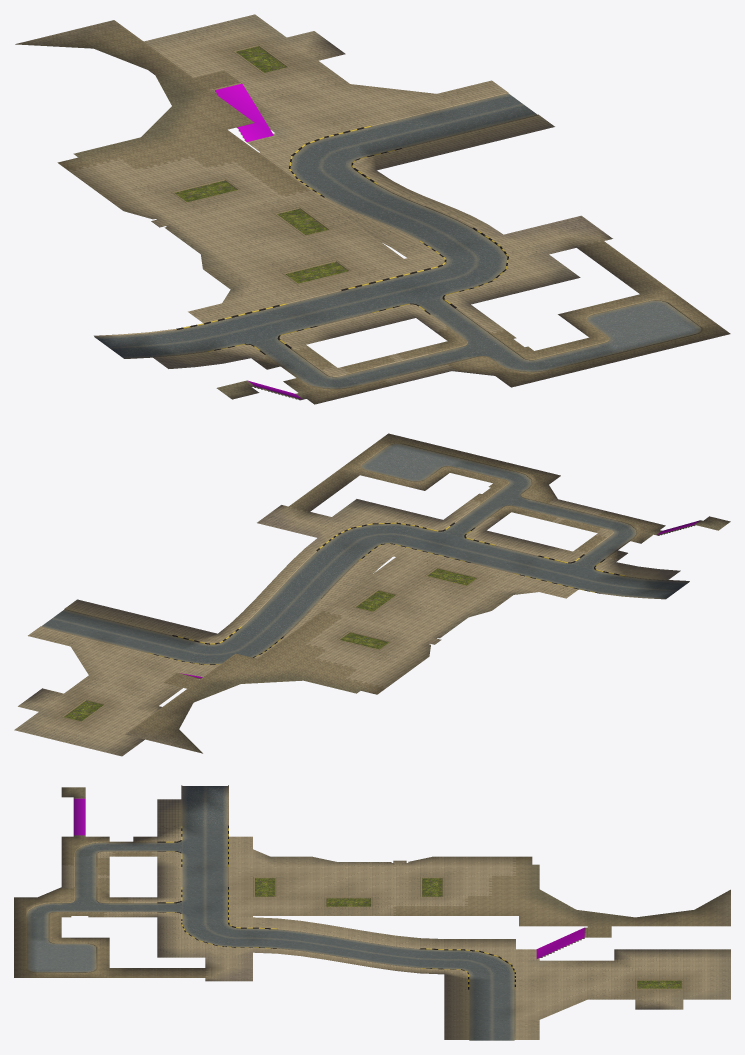
Rendered from M2_Zone2.glb.
3 renders of one model, top to bottom at view 1: azimuth 30°, elevation 25°; view 2: azimuth 150°, elevation 25°; view 3: azimuth 270°, elevation 25°, orthographic. The views are drawn at different scales.
Visible parts, largest first — view 1: M2_ZONE2074, M2_ZONE2048, M2_ZONE2012, M2_ZONE2030, M2_ZONE2069, M2_ZONE2071, M2_ZONE2027, M2_ZONE2029, M2_ZONE2028, M2_ZONE2070, M2_ZONE2068, M2_ZONE2032 (+71 smaller); view 2: M2_ZONE2044, M2_ZONE2039, M2_ZONE2048, M2_ZONE2022, M2_ZONE2004, M2_ZONE2062, M2_ZONE2061, M2_ZONE2063, M2_ZONE2020, M2_ZONE2019, M2_ZONE2032, M2_ZONE2060 (+67 smaller); view 3: M2_ZONE2017, M2_ZONE2074, M2_ZONE2011, M2_ZONE2054, M2_ZONE2007, M2_ZONE2044, M2_ZONE2049, M2_ZONE2048, M2_ZONE2016, M2_ZONE2039, M2_ZONE2008, M2_ZONE2019 (+72 smaller).
Boxes of the visible parts, bbox=[...] form: M2_ZONE2074: bbox=[185, 82, 273, 141]; M2_ZONE2048: bbox=[257, 189, 339, 234]; M2_ZONE2012: bbox=[613, 287, 698, 324]; M2_ZONE2030: bbox=[353, 258, 438, 295]; M2_ZONE2069: bbox=[327, 107, 413, 144]; M2_ZONE2071: bbox=[437, 80, 522, 117]; M2_ZONE2027: bbox=[188, 298, 273, 335]; M2_ZONE2029: bbox=[298, 271, 383, 308]; M2_ZONE2028: bbox=[243, 285, 328, 322]; M2_ZONE2070: bbox=[382, 94, 468, 130]; M2_ZONE2068: bbox=[273, 120, 358, 157]; M2_ZONE2032: bbox=[463, 231, 548, 268]; M2_ZONE2044: bbox=[300, 568, 366, 601]; M2_ZONE2039: bbox=[325, 546, 392, 577]; M2_ZONE2048: bbox=[321, 591, 395, 621]; M2_ZONE2022: bbox=[375, 509, 442, 538]; M2_ZONE2004: bbox=[364, 433, 430, 462]; M2_ZONE2062: bbox=[96, 610, 163, 639]; M2_ZONE2061: bbox=[139, 620, 206, 649]; M2_ZONE2063: bbox=[52, 599, 119, 628]; M2_ZONE2020: bbox=[462, 530, 529, 559]; M2_ZONE2019: bbox=[505, 541, 572, 570]; M2_ZONE2032: bbox=[307, 517, 374, 546]; M2_ZONE2060: bbox=[182, 631, 249, 660]; M2_ZONE2017: bbox=[157, 813, 205, 836]; M2_ZONE2074: bbox=[536, 917, 587, 958]; M2_ZONE2011: bbox=[61, 937, 109, 958]; M2_ZONE2054: bbox=[396, 935, 444, 959]; M2_ZONE2007: bbox=[61, 836, 109, 857]; M2_ZONE2044: bbox=[300, 921, 348, 948]; M2_ZONE2049: bbox=[348, 928, 396, 956]; M2_ZONE2048: bbox=[327, 897, 396, 915]; M2_ZONE2016: bbox=[157, 785, 205, 813]; M2_ZONE2039: bbox=[253, 917, 300, 941]; M2_ZONE2008: bbox=[61, 856, 109, 877]; M2_ZONE2019: bbox=[157, 856, 205, 877].
Bounding box in the file's own units: 88 × 7.6 × 120.
Materials: 23 (22 with a texture image).
